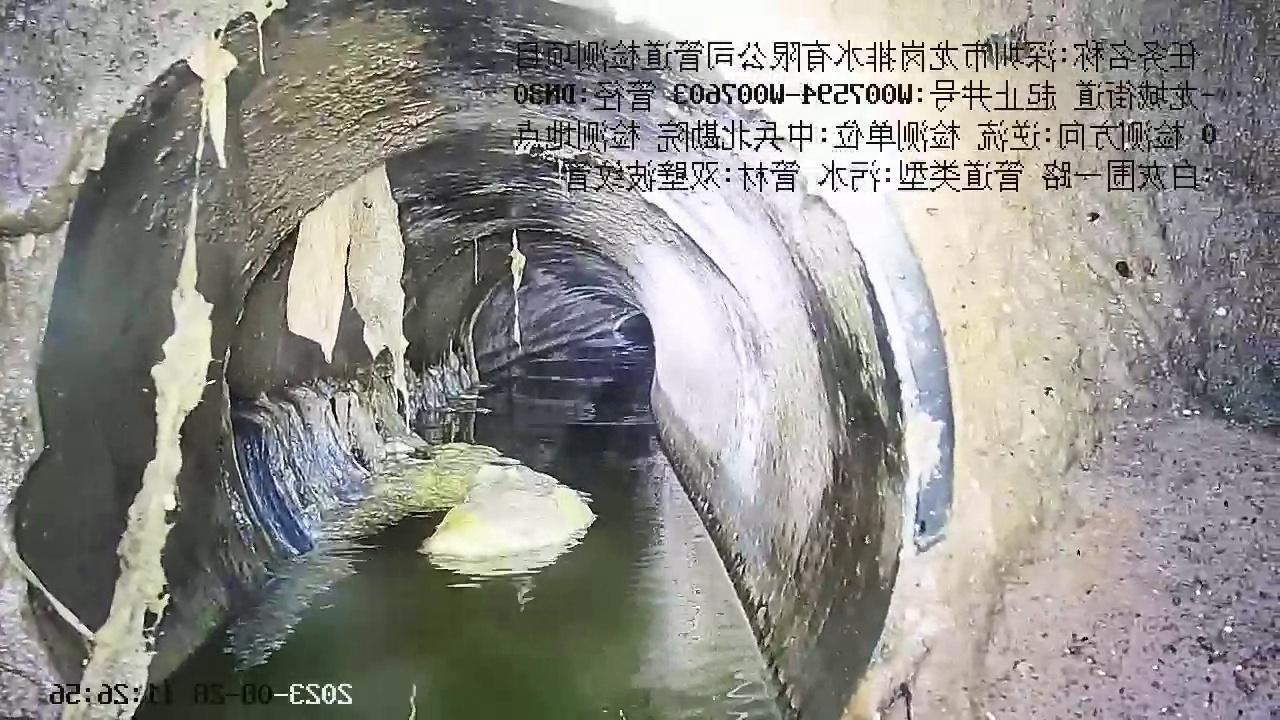CJ: (231, 352, 596, 666)
JG: (203, 0, 728, 280)
JKCL: (46, 25, 238, 719), (285, 166, 409, 393), (509, 232, 526, 348), (473, 241, 481, 284)
